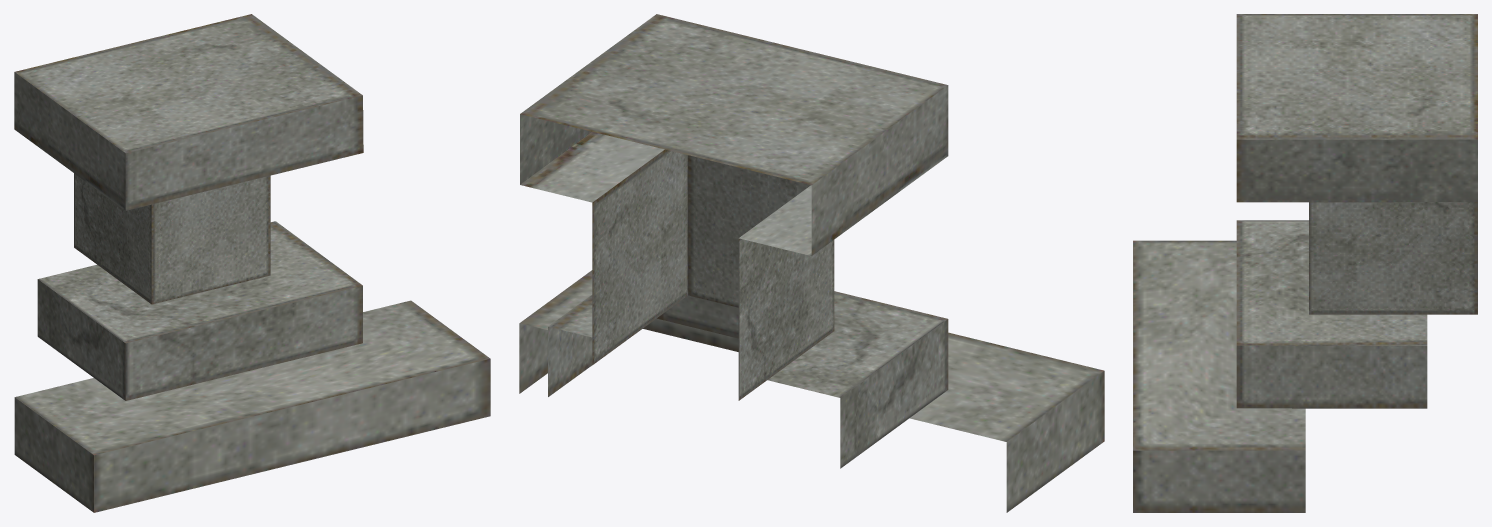
File: plinth_sml.fbx
The picture shows the model from 3 angles, left to right: view 1: azimuth 30°, elevation 25°; view 2: azimuth 150°, elevation 25°; view 3: azimuth 270°, elevation 25°; orthographic projection. The views are drawn at different scales.
Parts seen in each view (by area): view 1: plinth_sml; view 2: plinth_sml; view 3: plinth_sml.
Part boxes in pixels (x1,y1,x2,y2): plinth_sml: (14,14,490,512); plinth_sml: (519,14,1104,512); plinth_sml: (1133,14,1477,512).
Size of the model in its own units: 72 by 53 by 50.
